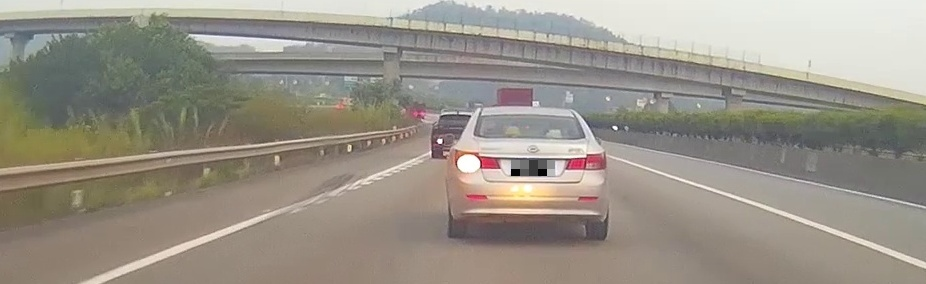L_light: (454, 149, 500, 170)
R_light: (565, 151, 606, 170)
T_light: (519, 113, 539, 116)
day-left: (445, 106, 607, 239)
plate_1: (511, 160, 555, 176)
